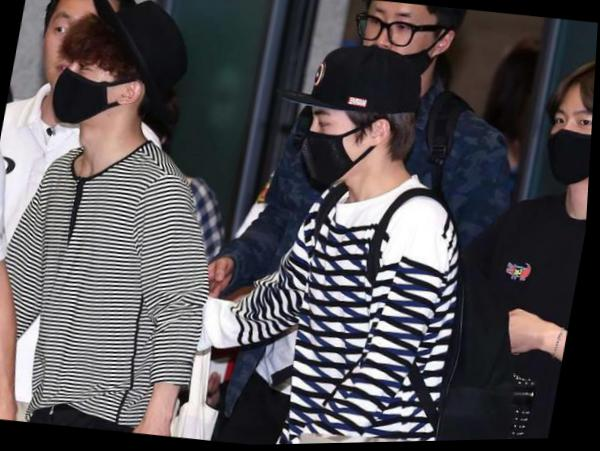OK: (298, 108, 388, 195), (51, 51, 141, 136), (539, 97, 595, 191)
WRONG: (355, 5, 438, 86)
